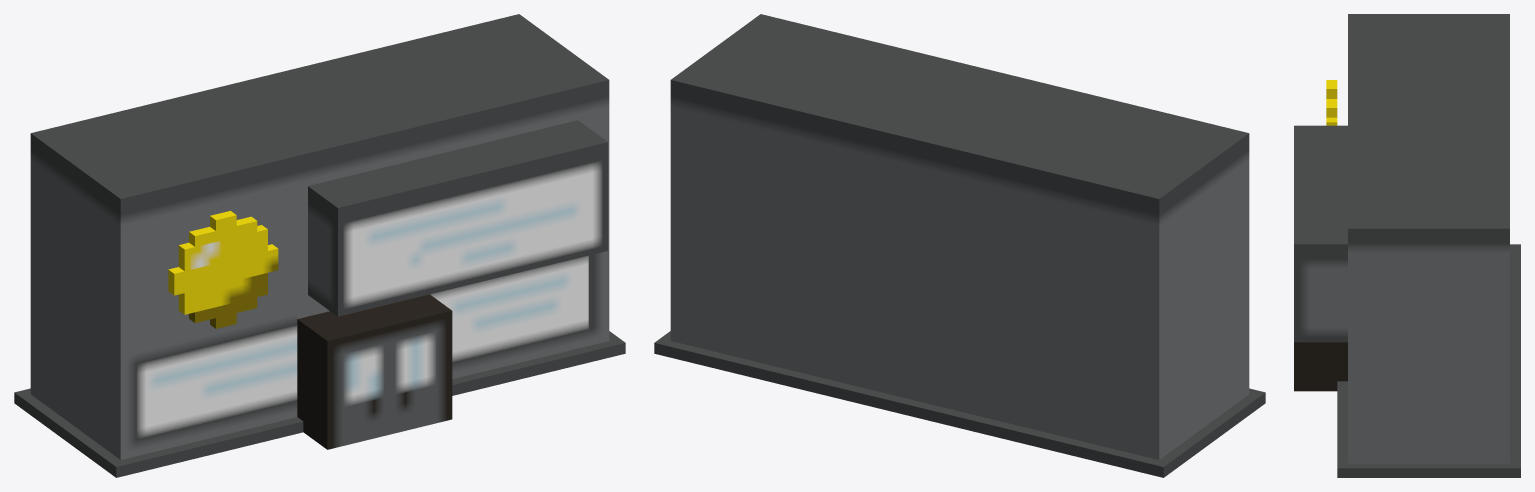
Rendered from Shop3.dae.
3 views of the same model, side by side, from view 1: azimuth 30°, elevation 25°; view 2: azimuth 150°, elevation 25°; view 3: azimuth 270°, elevation 25° (orthographic). The views are drawn at different scales.
Visible parts, largest first — view 1: Shop3; view 2: Shop3; view 3: Shop3.
Boxes of the visible parts, box(x1,y1,x2,y2) form: Shop3: box(14, 14, 625, 477); Shop3: box(654, 14, 1265, 477); Shop3: box(1294, 14, 1520, 477).
Size of the model in its own units: 49 by 25 by 21.
Materials: 1 (1 with a texture image).
